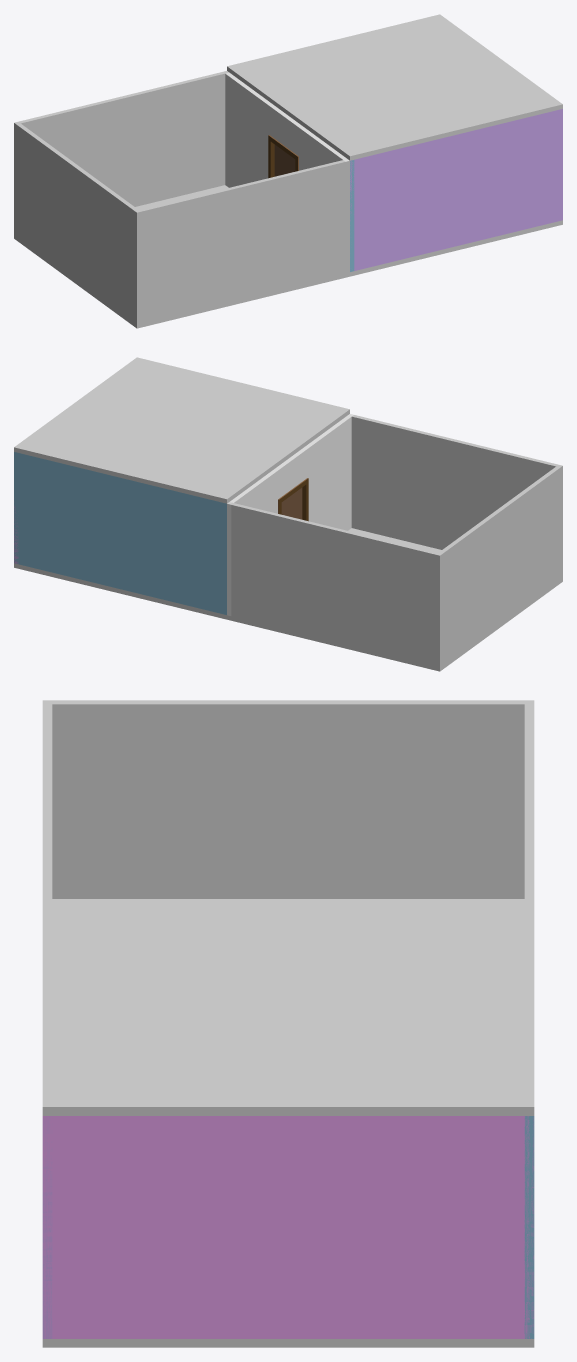
The model's file is FigurarEnviroment.glb.
3 views of the same model, one above another, from view 1: azimuth 30°, elevation 25°; view 2: azimuth 150°, elevation 25°; view 3: azimuth 270°, elevation 25° (orthographic). The views are drawn at different scales.
Visible parts, largest first — view 1: Room_1_Roof, Wall_4.001, Room_1_Wall_1, Wall_1.001, Wall_3.001, Wall_2.001, Floor.001, Room_1_Floor, Room_1_Wall_2, Room_1_Door; view 2: Room_1_Roof, Room_1_Wall_4, Wall_1.001, Wall_4.001, Wall_3.001, Wall_2.001, Floor.001, Room_1_Floor, Room_1_Door, Room_1_Wall_2; view 3: Room_1_Wall_3, Room_1_Roof, Wall_3.001, Room_1_Floor, Room_1_Wall_4, Wall_1.001, Wall_4.001, Room_1_Wall_1.
Part boxes in pixels (left/top/right/bottom): Room_1_Roof: left=227, top=14, right=562, bottom=160; Wall_4.001: left=134, top=160, right=349, bottom=323; Room_1_Wall_1: left=350, top=109, right=562, bottom=270; Wall_1.001: left=14, top=71, right=228, bottom=206; Wall_3.001: left=14, top=123, right=140, bottom=321; Wall_2.001: left=225, top=72, right=349, bottom=187; Floor.001: left=14, top=185, right=349, bottom=328; Room_1_Floor: left=350, top=220, right=562, bottom=276; Room_1_Wall_2: left=350, top=160, right=354, bottom=271; Room_1_Door: left=274, top=144, right=295, bottom=176; Room_1_Roof: left=14, top=357, right=349, bottom=503; Room_1_Wall_4: left=14, top=452, right=226, bottom=614; Wall_1.001: left=228, top=502, right=442, bottom=665; Wall_4.001: left=351, top=415, right=562, bottom=578; Wall_3.001: left=435, top=465, right=562, bottom=666; Wall_2.001: left=227, top=414, right=353, bottom=615; Floor.001: left=227, top=528, right=562, bottom=671; Room_1_Floor: left=14, top=563, right=226, bottom=619; Room_1_Door: left=281, top=487, right=302, bottom=519; Room_1_Wall_2: left=222, top=503, right=226, bottom=614; Room_1_Wall_3: left=42, top=1116, right=533, bottom=1338; Room_1_Roof: left=42, top=899, right=534, bottom=1115; Wall_3.001: left=42, top=700, right=534, bottom=898; Room_1_Floor: left=42, top=1339, right=534, bottom=1347; Room_1_Wall_4: left=524, top=1116, right=534, bottom=1338; Wall_1.001: left=524, top=700, right=534, bottom=898; Wall_4.001: left=42, top=704, right=52, bottom=898; Room_1_Wall_1: left=42, top=1116, right=52, bottom=1338.
Size of the model in its own units: 10 by 2.7 by 5.
2 materials, 1 textured.
